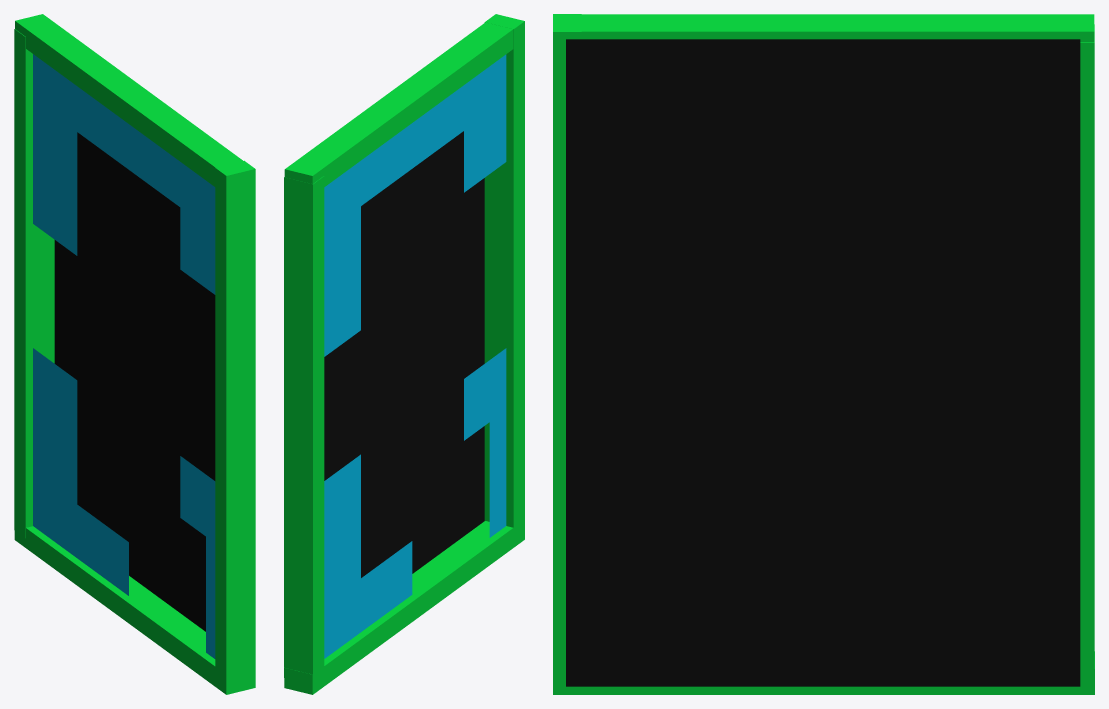
The model's file is Window_Broken.fbx.
3 renders of one model, left to right at view 1: azimuth 30°, elevation 25°; view 2: azimuth 150°, elevation 25°; view 3: azimuth 270°, elevation 25°, orthographic. The views are drawn at different scales.
Parts seen in each view (by area): view 1: BrokenWindow_LOD0; view 2: BrokenWindow_LOD0; view 3: BrokenWindow_LOD0.
Part boxes in pixels (x1,y1,x2,y2): BrokenWindow_LOD0: (14, 14, 255, 694); BrokenWindow_LOD0: (284, 14, 524, 694); BrokenWindow_LOD0: (553, 14, 1094, 694).
Size of what is drawn, in the model's own units: 6.23 by 102 by 75.87.
